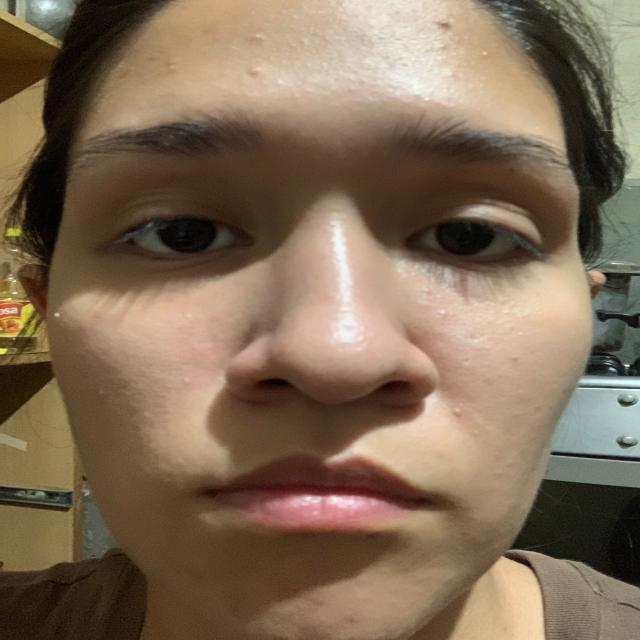Acne: (246, 28, 276, 50), (180, 310, 207, 330), (475, 46, 500, 66), (49, 311, 76, 328), (450, 403, 472, 422), (339, 612, 363, 628), (430, 306, 451, 324), (499, 452, 522, 468), (465, 424, 483, 443), (434, 14, 454, 28), (500, 350, 521, 363), (241, 62, 260, 76), (162, 54, 181, 67), (180, 374, 197, 388), (169, 458, 186, 472), (91, 388, 111, 399), (434, 41, 450, 54), (490, 466, 507, 478), (440, 65, 456, 77), (140, 410, 156, 422), (421, 283, 434, 294)
Englarged-Pores: (432, 333, 487, 388)
